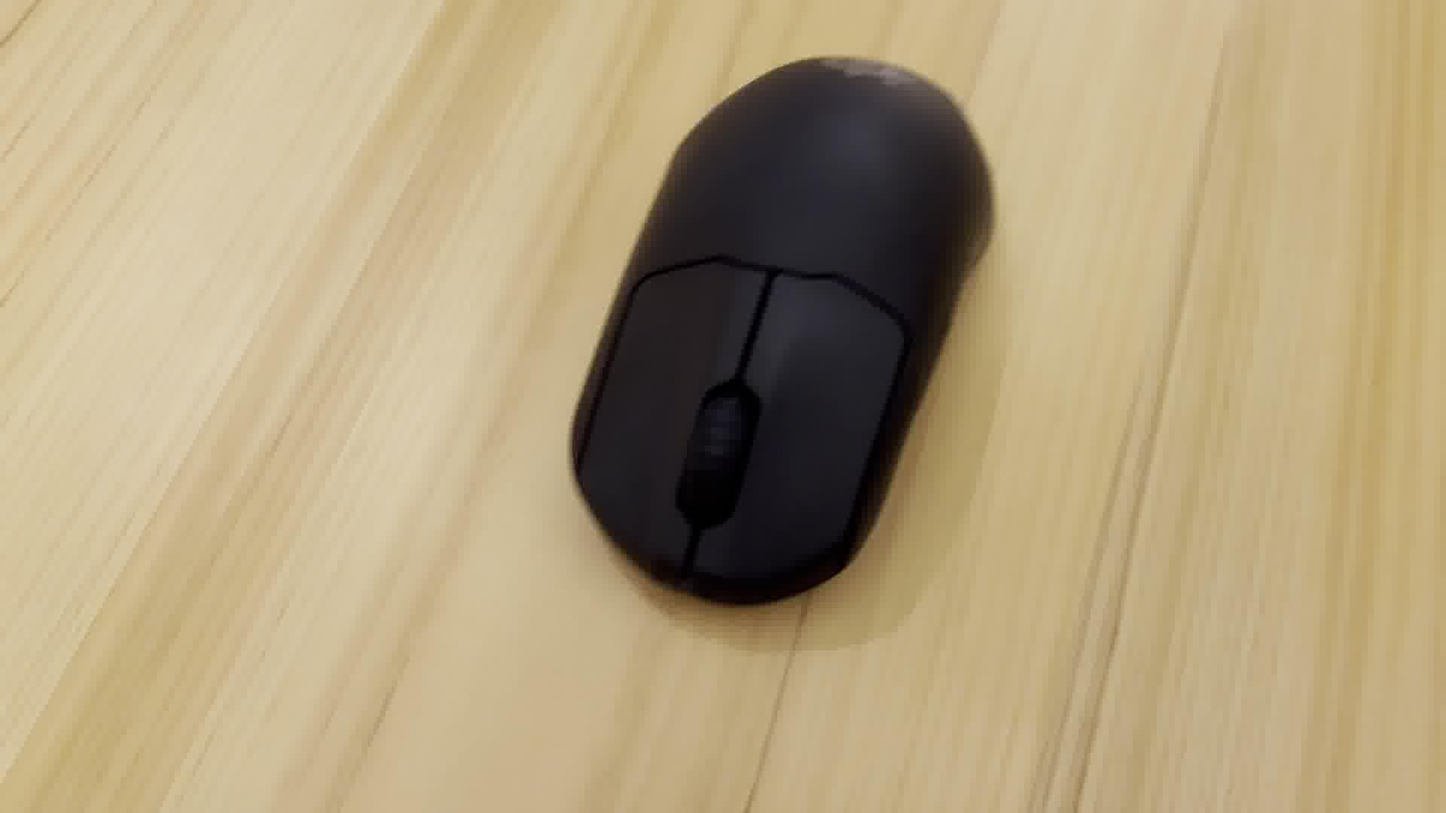steel-series: (561, 38, 1009, 622)
